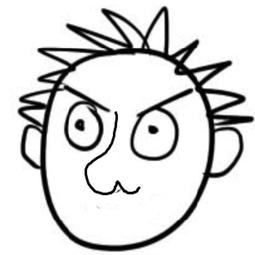ear: (204, 125, 246, 181), (16, 121, 44, 174)
eye: (129, 108, 177, 166), (60, 100, 104, 154)
frowning_eyebrow: (131, 85, 195, 117), (61, 85, 111, 111)
nose: (83, 111, 143, 196)
